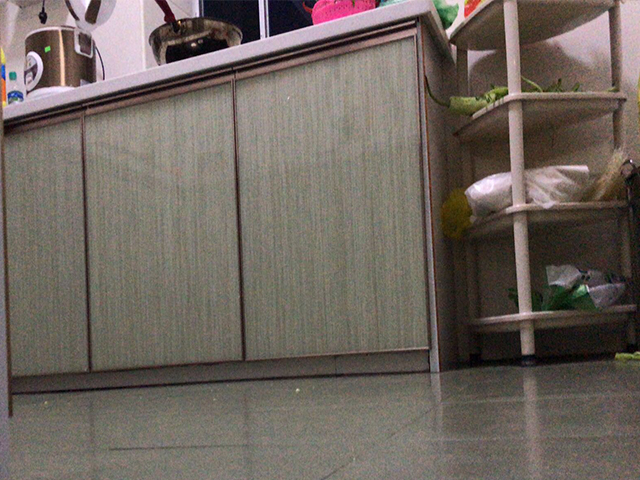cabinet: (1, 1, 468, 394)
